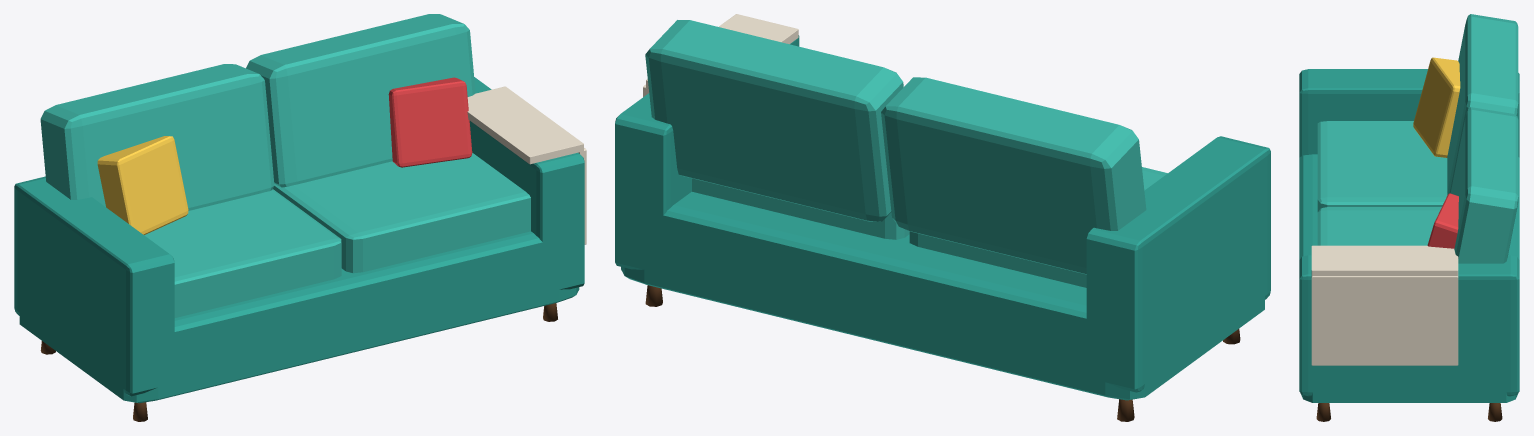
Rendered from sofa.glb.
The picture shows the model from 3 angles, left to right: view 1: azimuth 30°, elevation 25°; view 2: azimuth 150°, elevation 25°; view 3: azimuth 270°, elevation 25°; orthographic projection. The views are drawn at different scales.
Visible parts, largest first — view 1: sofa; view 2: sofa; view 3: sofa.
Part boxes in pixels (x1=…): sofa: x1=14, y1=14, x2=586, y2=421; sofa: x1=615, y1=14, x2=1270, y2=421; sofa: x1=1299, y1=14, x2=1519, y2=421.
Size of the model in its own units: 2.03 by 1.01 by 0.9.
2 materials, 2 textured.
